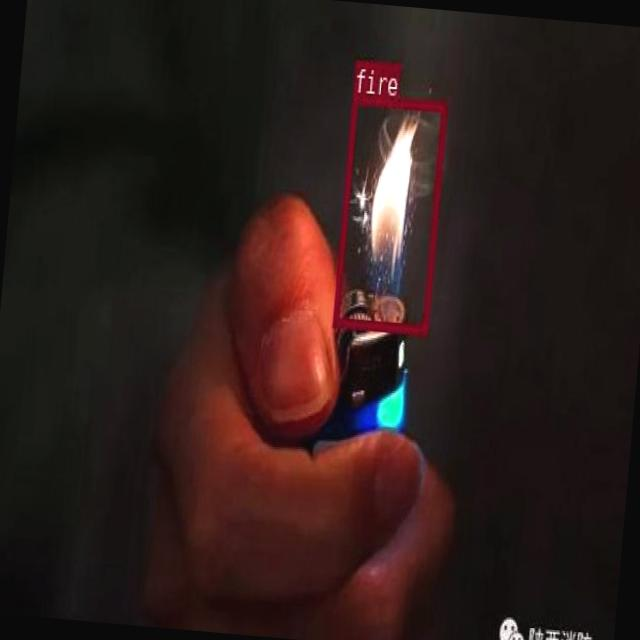fire: (332, 94, 446, 332)
